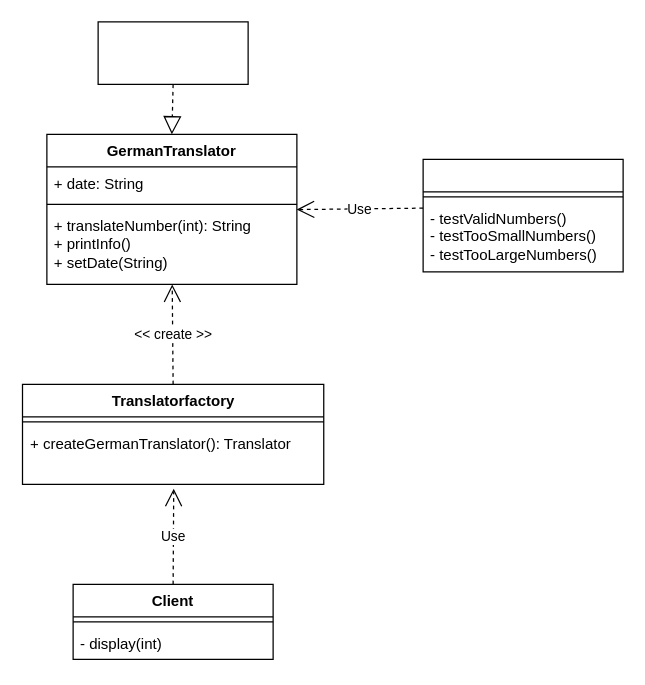
The diagram is 645 pixels wide and 685 high, and some of its shapes have lost their labels. The shapes that lost their labels are listed below. From the top down, each one's box as (x1, y1, x2, y2) in pixels, then its label:
(97, 21, 248, 84): «interface» Translator
(422, 158, 623, 272): GermanTranslatorTest
